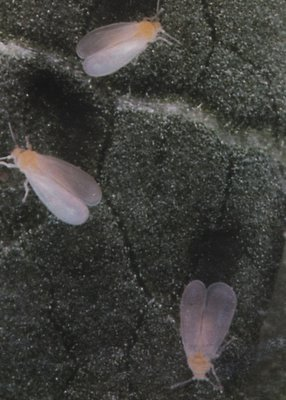whitefly: (1, 122, 102, 228), (74, 2, 178, 81), (172, 280, 236, 390)
